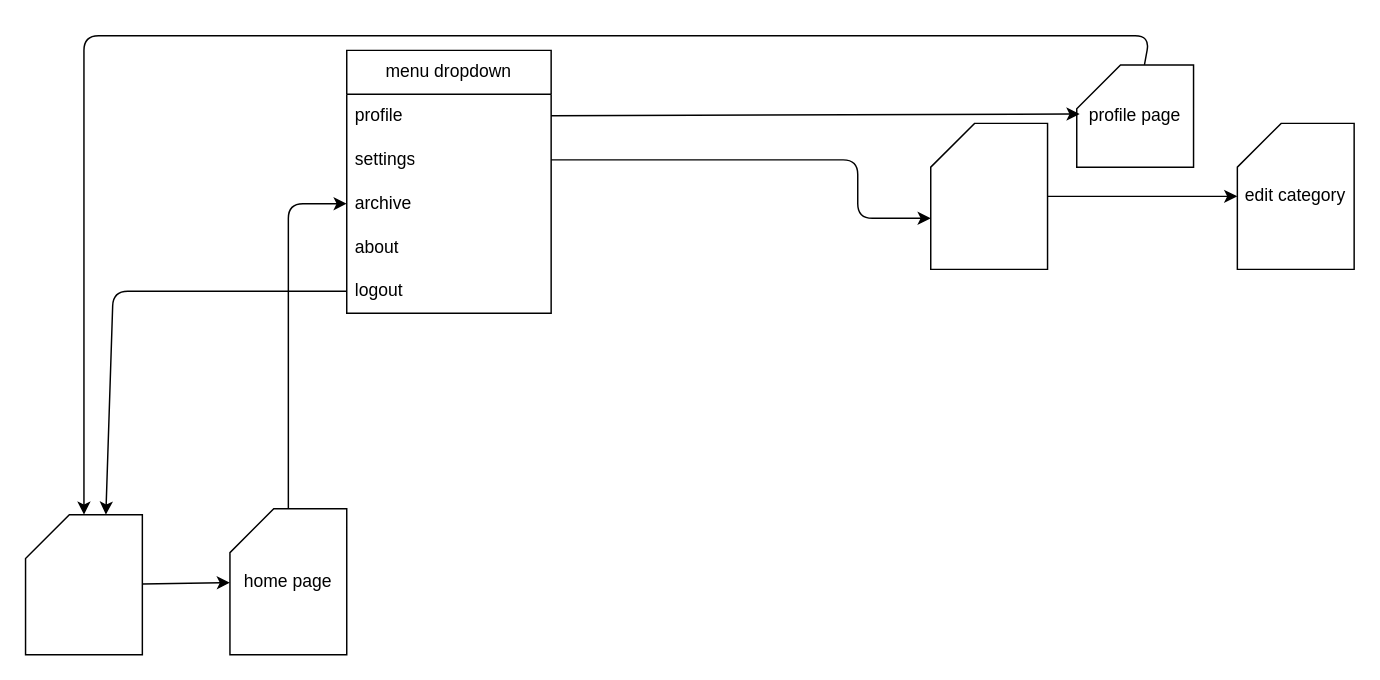
Some shapes in this 1380 by 680 pixel diagram are drawn without their labels. Each missing label, with the centre of its shape:
"login page" goes at (x=83, y=584).
"settings page" goes at (x=988, y=195).
